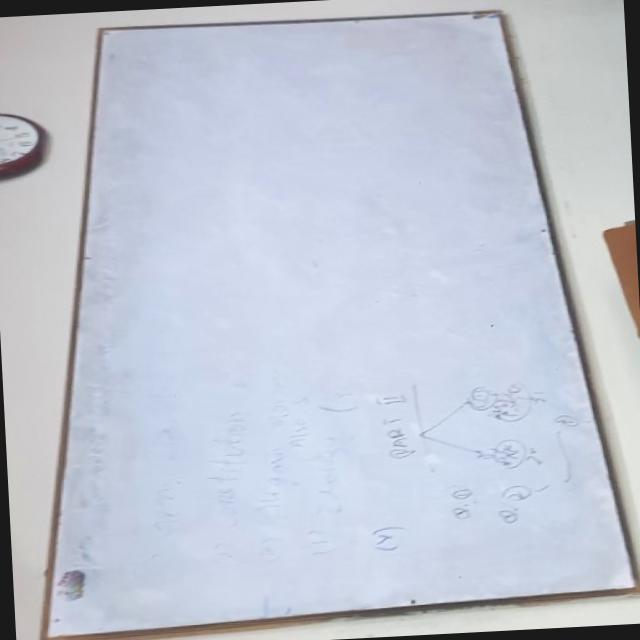White-board: (40, 11, 640, 640)
